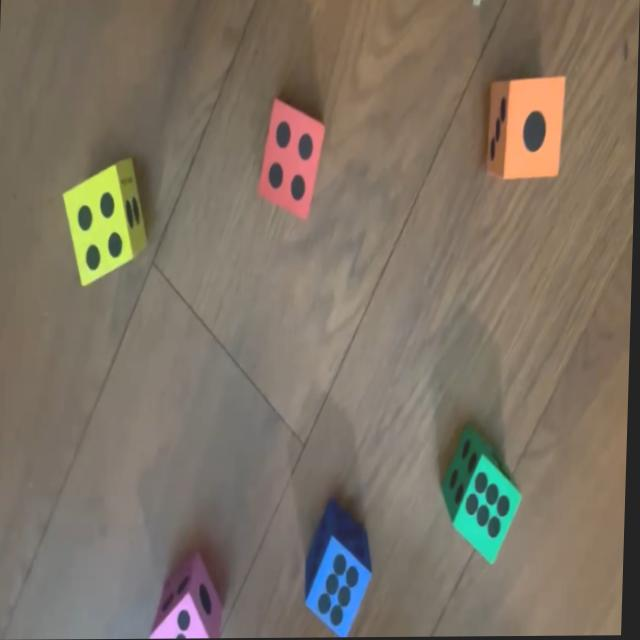blue_block: (306, 504, 376, 638)
red_block: (257, 99, 327, 223)
